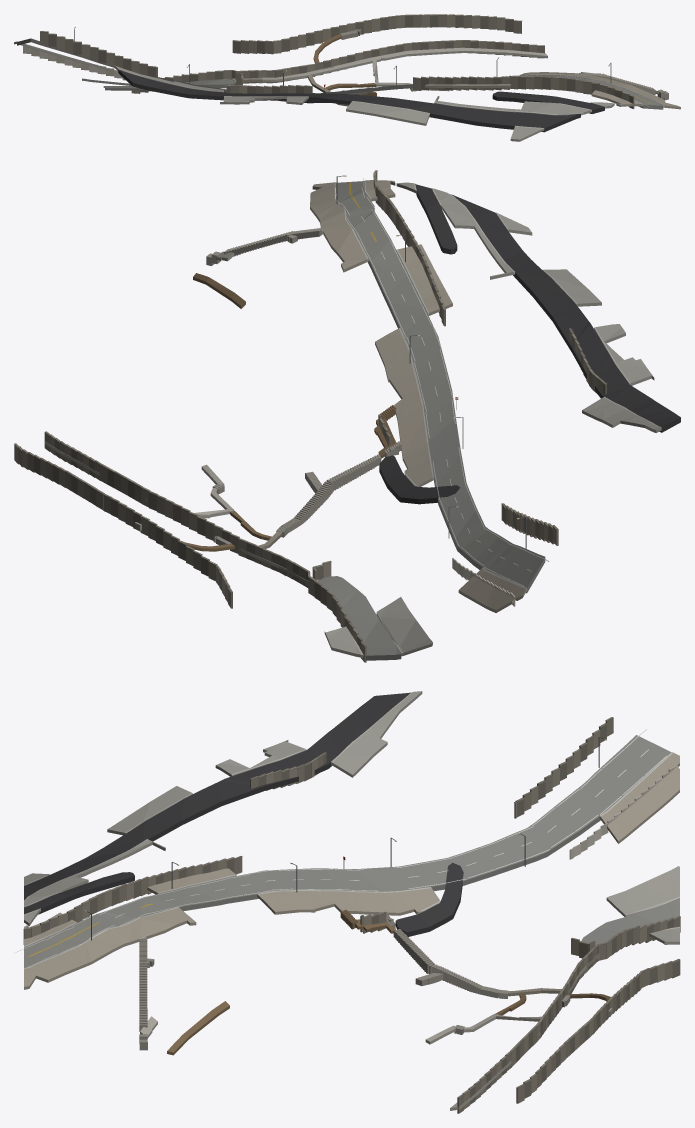
3 renders of one model, top to bottom at view 1: azimuth 30°, elevation 25°; view 2: azimuth 150°, elevation 25°; view 3: azimuth 270°, elevation 25°, orthographic. The views are drawn at different scales.
Bounding box in the file's own units: 149 × 43.1 × 148.
